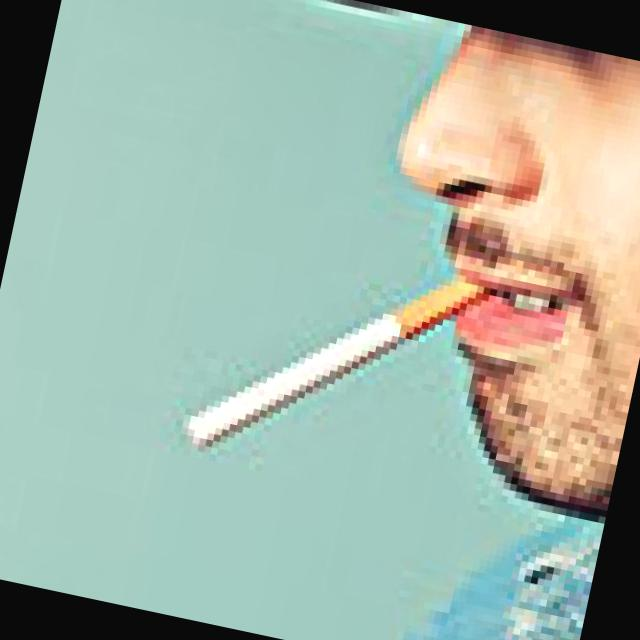smoke: (186, 219, 500, 492)
